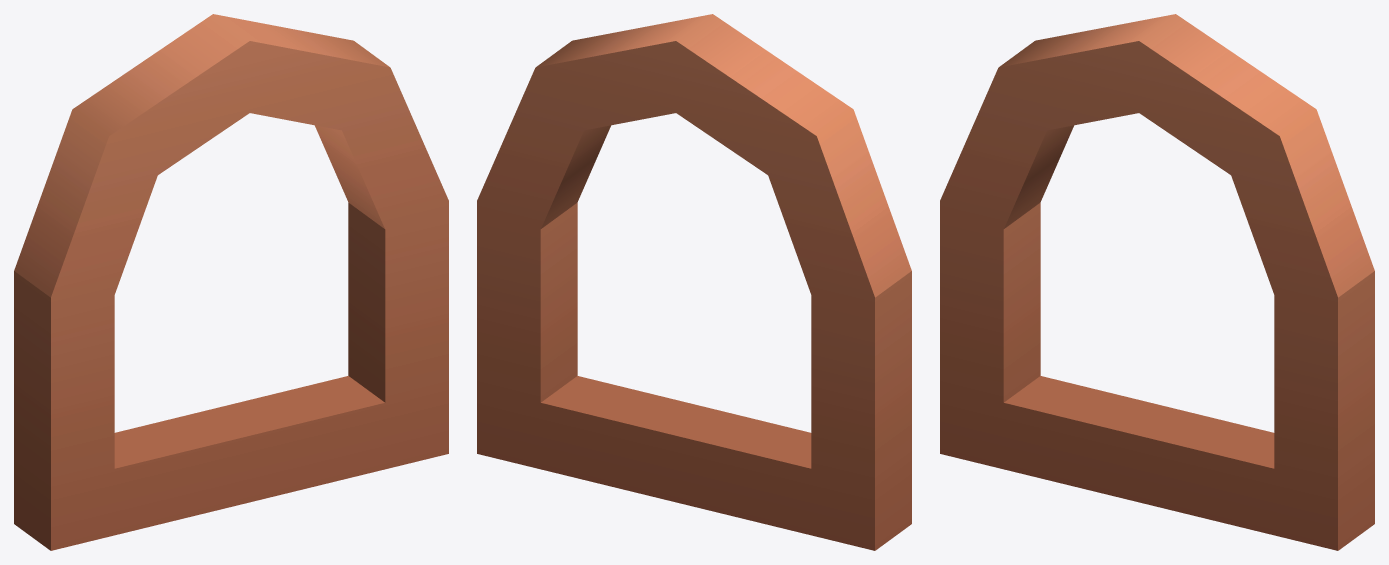
The model's file is window-brown-round-low.glb.
3 renders of one model, left to right at view 1: azimuth 30°, elevation 25°; view 2: azimuth 150°, elevation 25°; view 3: azimuth 330°, elevation 25°, orthographic.
Visible parts, largest first — view 1: window-brown-round-low; view 2: window-brown-round-low; view 3: window-brown-round-low.
Boxes of the visible parts, x1=… form: window-brown-round-low: x1=14, y1=14, x2=448, y2=550; window-brown-round-low: x1=477, y1=14, x2=911, y2=550; window-brown-round-low: x1=940, y1=14, x2=1374, y2=550.
Size of the model in its own units: 0.3125 by 0.3462 by 0.05.
Materials: 1 (1 with a texture image).
